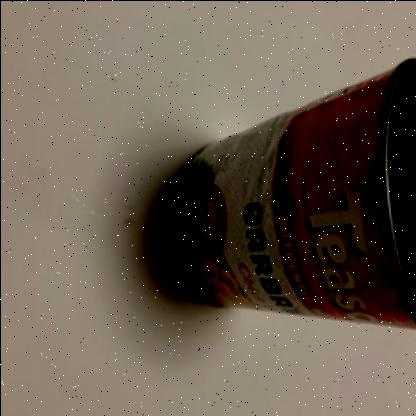Can: (172, 57, 416, 331)
